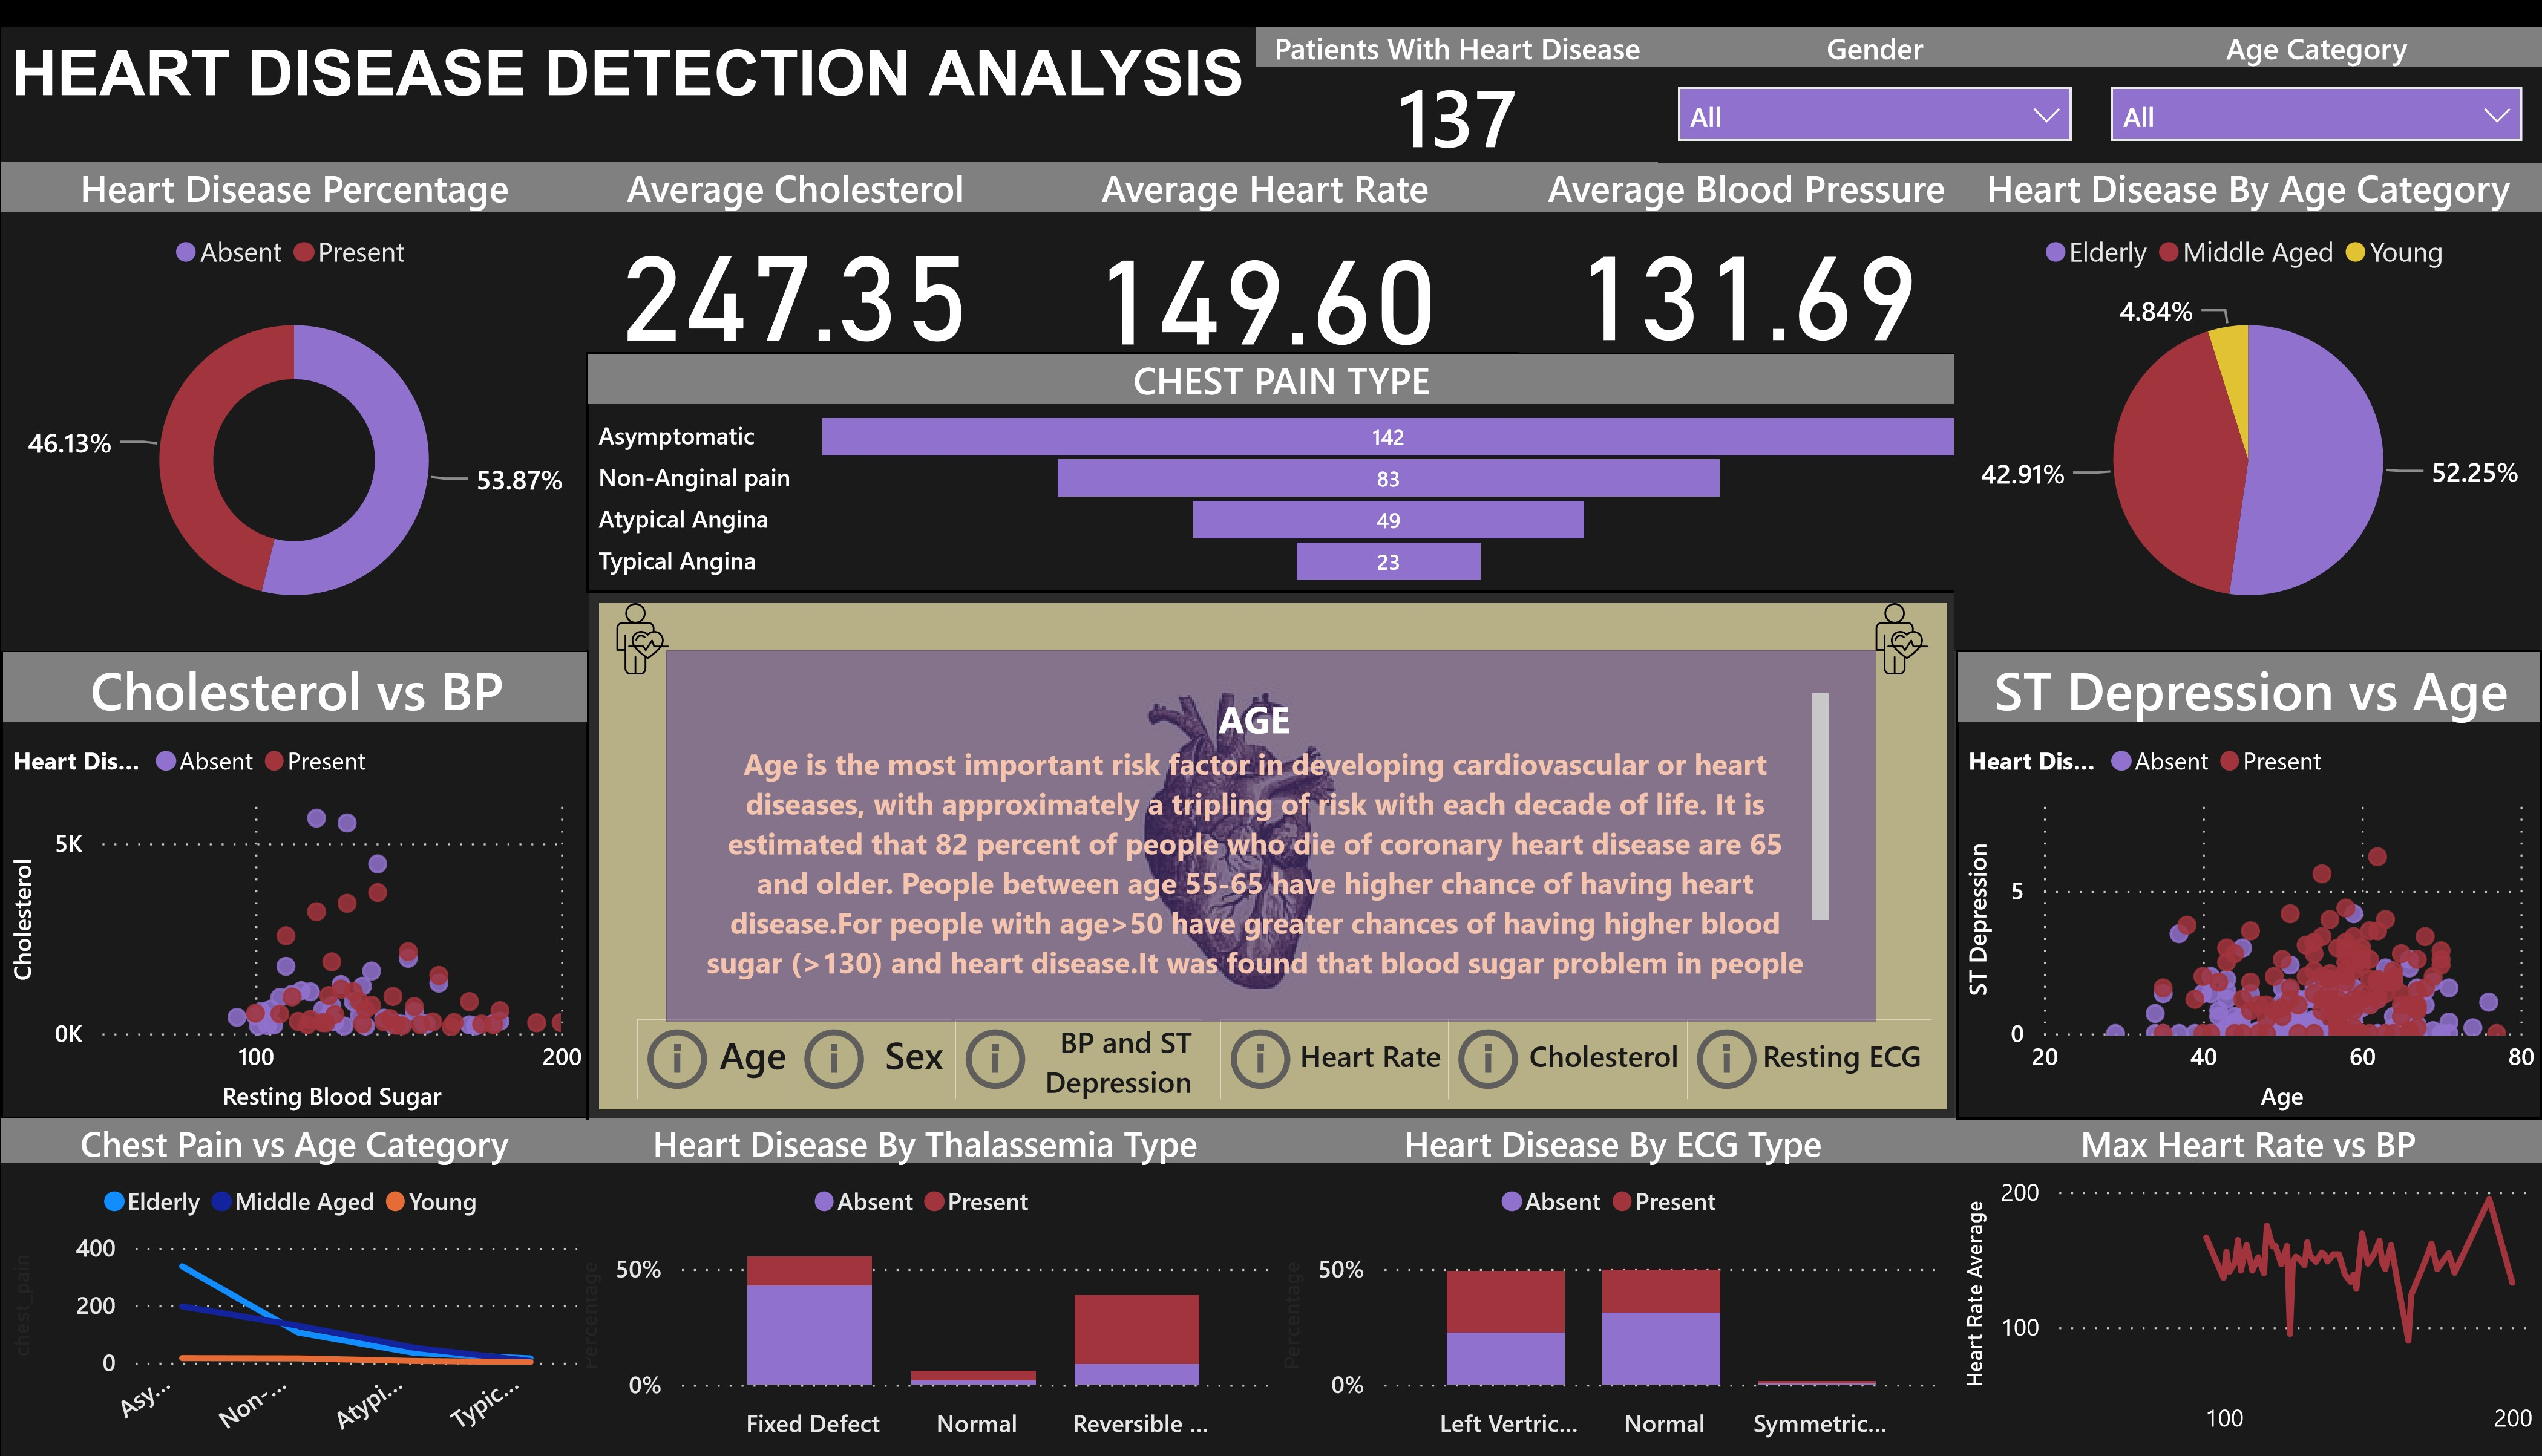

What the dashboard file says about the page in this screenshot:
{"tool":"powerbi","page":{"name":"Heart Disease Analysis","canvas":[1280,720],"ordinal":0},"visuals":[{"type":"image","box":[295.5,284.6,688.6,265.3],"z":0},{"type":"shape","box":[294.9,283.8,688.8,266],"z":1000},{"type":"textbox","box":[0,0,1279.8,67.9],"z":2000},{"type":"actionButton","box":[320.6,500.1,79.2,39.6],"z":3000},{"type":"actionButton","box":[399.8,500.1,79.2,39.6],"z":4000},{"type":"actionButton","box":[480.3,500.1,123.8,39.6],"z":5000},{"type":"columnChart","title":"Heart Disease By Thalassemia Type","fields":{"Category":["Heart Disease Diagnostic.Thalassemia Type"],"Y":["CountNonNull(Heart Disease Diagnostic.Thalassemia Type)"],"Series":["Heart Disease Diagnostic.Heart_Disease"]},"box":[285.5,549.4,358.7,170.3],"z":5500},{"type":"scatterChart","title":"Cholesterol vs BP","fields":{"X":["Heart Disease Diagnostic.resting_blood_sugar"],"Series":["Heart Disease Diagnostic.Heart_Disease"],"Y":["Sum(Heart Disease Diagnostic.cholesterol)"]},"box":[0,313.8,296,235.9],"z":6000},{"type":"lineChart","title":"Max Heart  Rate vs BP","fields":{"Y":["Avg(Heart Disease Diagnostic.max_heart_rate_achieved)"],"Category":["Heart Disease Diagnostic.resting_blood_sugar"]},"box":[983.7,549.7,296,170.3],"z":7000},{"type":"lineChart","title":"Chest Pain vs Age Category","fields":{"Y":["Sum(Heart Disease Diagnostic.chest_pain)"],"Series":["Heart Disease Diagnostic.Age_Range"],"Category":["Heart Disease Diagnostic.Chest_Pain_Type"]},"box":[0,549.9,295.5,170.1],"z":9000},{"type":"card","title":"Patients With Heart Disease","fields":{"Values":["Sum(Heart Disease Diagnostic.target)"]},"box":[632,0,202.6,67.5],"z":10000},{"type":"card","title":"Average Cholesterol","fields":{"Values":["Avg(Heart Disease Diagnostic.cholesterol)"]},"box":[286,67.9,228.1,95.7],"z":11000},{"type":"card","title":"Average Heart Rate","fields":{"Values":["Avg(Heart Disease Diagnostic.max_heart_rate_achieved)"]},"box":[499.7,67.9,273.8,100.2],"z":13000},{"type":"funnel","title":"CHEST PAIN TYPE","fields":{"Category":["Heart Disease Diagnostic.Chest_Pain_Type"],"Y":["CountNonNull(Heart Disease Diagnostic.Heart_Disease)"]},"box":[295.1,163.1,698.2,121.2],"z":13500},{"type":"card","title":"Average Blood Pressure","fields":{"Values":["Avg(Heart Disease Diagnostic.resting_blood_sugar)"]},"box":[764.6,67.5,229.1,96.5],"z":14000},{"type":"donutChart","title":"Heart Disease Percentage","fields":{"Y":["CountNonNull(Heart Disease Diagnostic.sex1)"],"Category":["Heart Disease Diagnostic.Heart_Disease"]},"box":[0,67.5,295.5,246],"z":15000},{"type":"pieChart","title":"Heart Disease By Age Category","fields":{"Category":["Heart Disease Diagnostic.Age_Range"],"Y":["Divide(CountNonNull(Heart Disease Diagnostic.Heart_Disease), ScopedEval(CountNonNull(Heart Disease Diagnostic.Heart_Dise"]},"box":[983.7,67.9,296,245.9],"z":16000},{"type":"slicer","title":"Gender","fields":{"Values":["Heart Disease Diagnostic.sex1"]},"box":[834.6,0,218.3,67.5],"z":17000},{"type":"slicer","title":"Age Category","fields":{"Values":["Heart Disease Diagnostic.Age_Range"]},"box":[1052.7,0,227,67.9],"z":18000},{"type":"scatterChart","title":"ST Depression vs Age","fields":{"Series":["Heart Disease Diagnostic.Heart_Disease"],"X":["Heart Disease Diagnostic.age"],"Y":["Heart Disease Diagnostic.st_depression"]},"box":[984.9,313.8,294.9,235.9],"z":19000},{"type":"columnChart","title":"Heart Disease By ECG Type","fields":{"Y":["CountNonNull(Heart Disease Diagnostic.Thalassemia Type)"],"Series":["Heart Disease Diagnostic.Heart_Disease"],"Category":["Heart Disease Diagnostic.ECG Measure"]},"box":[640.4,549.9,343.7,170.1],"z":20000},{"type":"actionButton","box":[614,500.1,115.1,39.6],"z":21000},{"type":"actionButton","box":[729.1,500.1,120.1,39.6],"z":22000},{"type":"actionButton","box":[849.2,500.1,122.6,39.6],"z":23000},{"type":"shape","box":[335.3,313.6,609,186.9],"z":24000},{"type":"textbox","title":"Age Text","box":[349.7,330.5,576.5,154.4],"z":26000},{"type":"image","box":[295.5,284.6,54.3,45.8],"z":31000},{"type":"image","box":[929.8,284.6,54.3,45.8],"z":32000}]}

Visuals, with their boxes in screenshot pixels (x1, y1, x2, y2), scaled from the page's 1280x720 canvas onto the 2542x1456 screenshot:
image: <region>587, 575, 1954, 1112</region>
shape: <region>586, 574, 1954, 1112</region>
textbox: <region>0, 0, 2541, 137</region>
actionButton: <region>637, 1011, 794, 1091</region>
actionButton: <region>794, 1011, 951, 1091</region>
actionButton: <region>954, 1011, 1200, 1091</region>
"Heart Disease By Thalassemia Type" columnChart: <region>567, 1111, 1279, 1455</region>
"Cholesterol vs BP" scatterChart: <region>0, 635, 588, 1112</region>
"Max Heart  Rate vs BP" lineChart: <region>1954, 1112, 2541, 1455</region>
"Chest Pain vs Age Category" lineChart: <region>0, 1112, 587, 1455</region>
"Patients With Heart Disease" card: <region>1255, 0, 1657, 137</region>
"Average Cholesterol" card: <region>568, 137, 1021, 331</region>
"Average Heart Rate" card: <region>992, 137, 1536, 340</region>
"CHEST PAIN TYPE" funnel: <region>586, 330, 1973, 575</region>
"Average Blood Pressure" card: <region>1518, 137, 1973, 331</region>
"Heart Disease Percentage" donutChart: <region>0, 137, 587, 634</region>
"Heart Disease By Age Category" pieChart: <region>1954, 137, 2541, 635</region>
"Gender" slicer: <region>1657, 0, 2091, 137</region>
"Age Category" slicer: <region>2091, 0, 2541, 137</region>
"ST Depression vs Age" scatterChart: <region>1956, 635, 2541, 1112</region>
"Heart Disease By ECG Type" columnChart: <region>1272, 1112, 1954, 1455</region>
actionButton: <region>1219, 1011, 1448, 1091</region>
actionButton: <region>1448, 1011, 1686, 1091</region>
actionButton: <region>1686, 1011, 1930, 1091</region>
shape: <region>666, 634, 1875, 1012</region>
"Age Text" textbox: <region>695, 668, 1839, 981</region>
image: <region>587, 575, 695, 668</region>
image: <region>1847, 575, 1954, 668</region>
